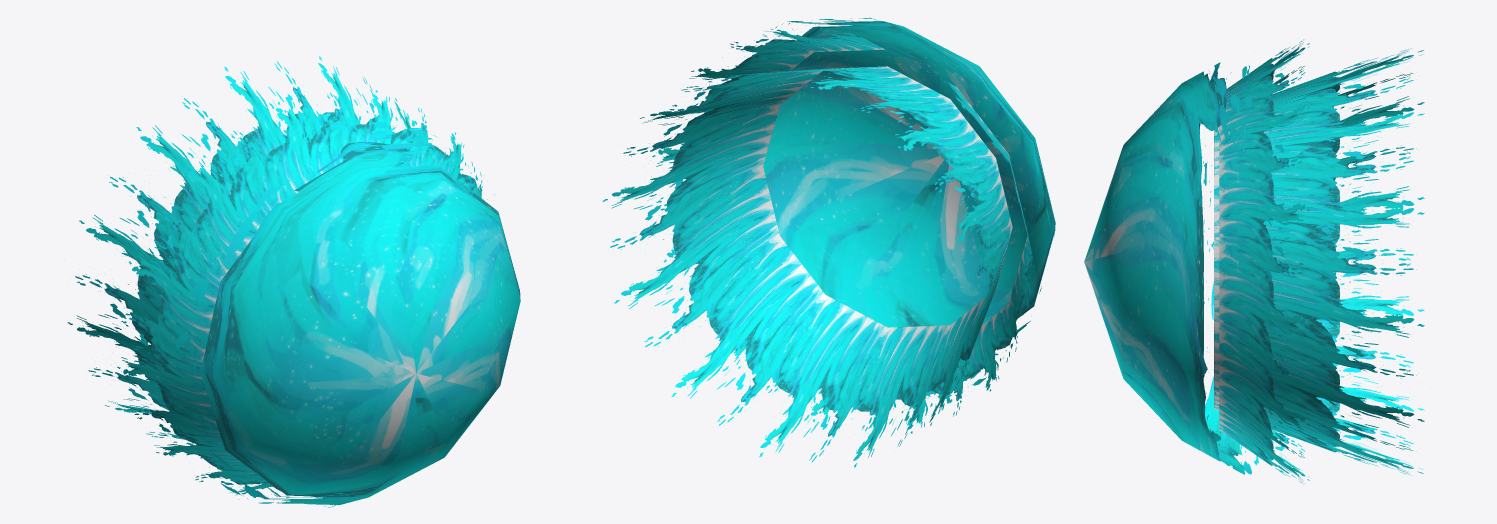
The model's file is horn_shockwave.fbx.
3 views of the same model, side by side, from view 1: azimuth 30°, elevation 25°; view 2: azimuth 150°, elevation 25°; view 3: azimuth 270°, elevation 25° (orthographic). The views are drawn at different scales.
Visible parts, largest first — view 1: horn_special_shockwave; view 2: horn_special_shockwave; view 3: horn_special_shockwave.
Boxes of the visible parts, x1,y1,x2,y2 form: horn_special_shockwave: (67, 56, 520, 507); horn_special_shockwave: (602, 17, 1055, 467); horn_special_shockwave: (1084, 39, 1424, 484).
Bounding box in the file's own units: 2.55 × 2.55 × 2.04.
